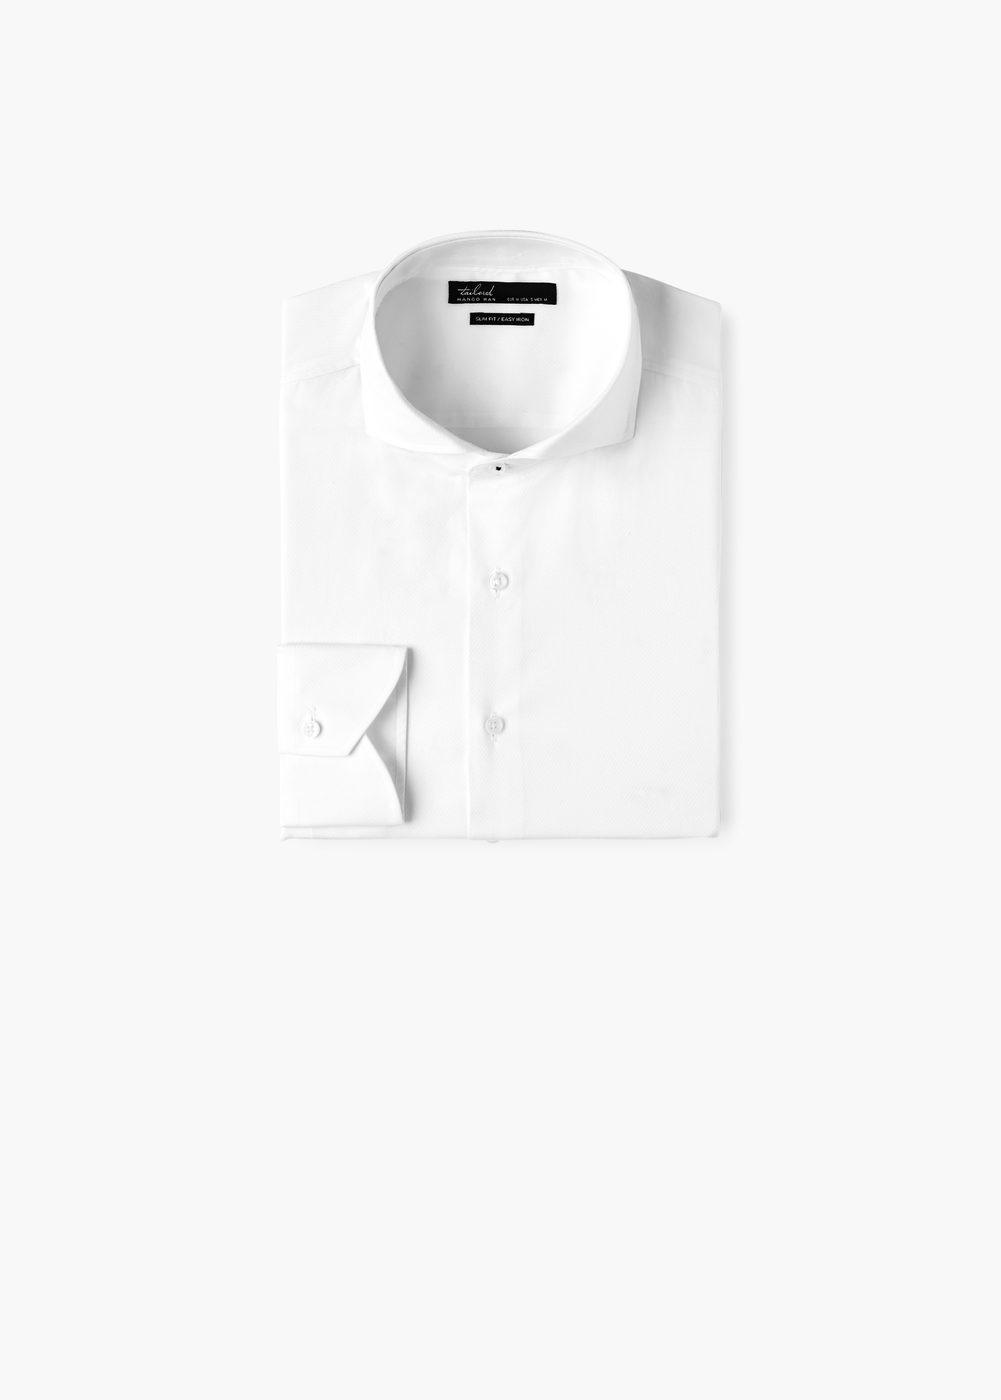teeshirt: (255, 225, 747, 861)
